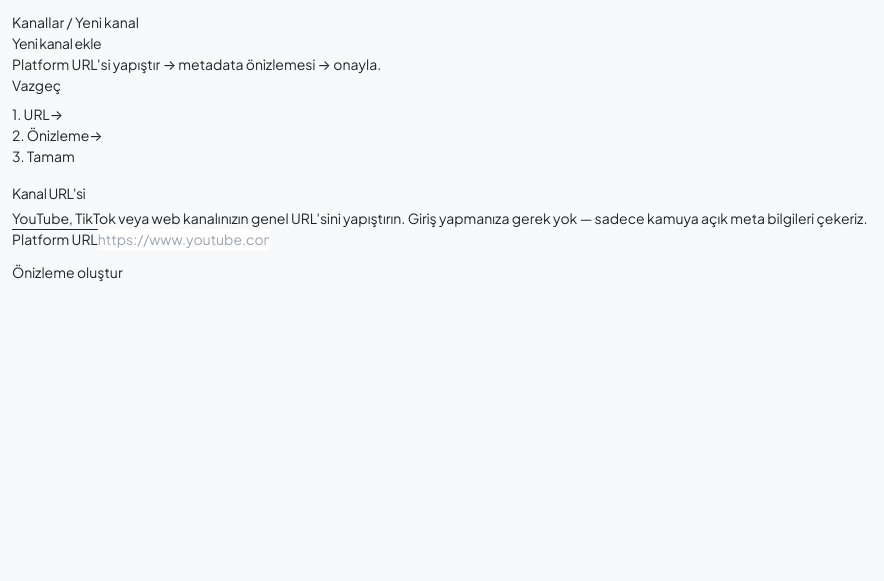
Test case: AuroraChannelOnboardingPage › submits URL and advances to ConfirmStep with metadata pre-filled
The image size is (884, 581).
Expected: the element with test id "aurora-channel-onboarding" is shown, [12,13,867,283]
In the field with test id "onb-url-input": (183, 240) [98,229,269,250], type "  https://www.youtube.com/@example  "
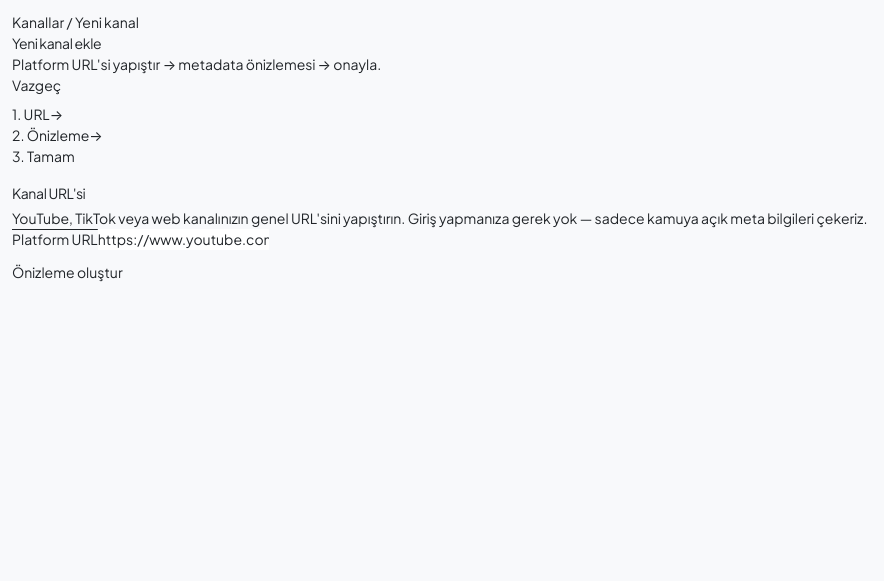
Click the button with test id "onb-url-submit": click(67, 272) [12,262,123,283]
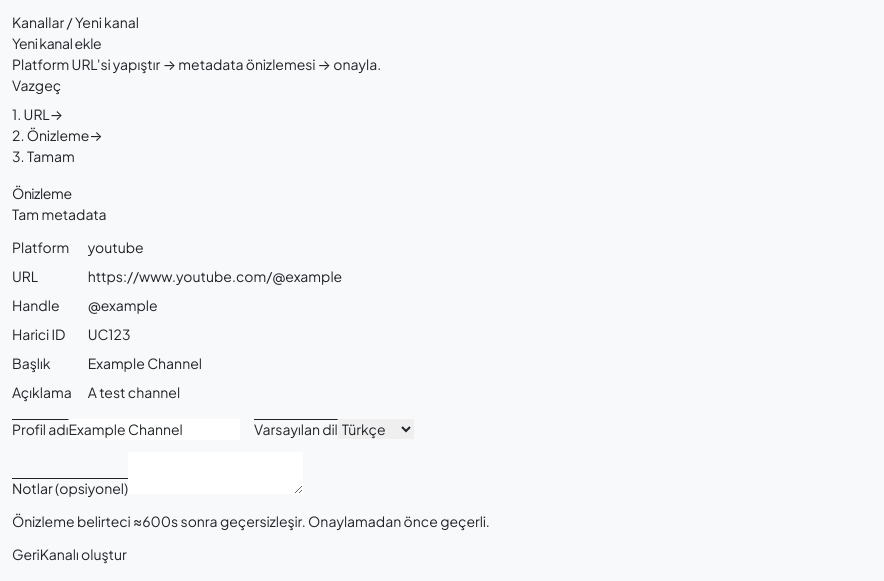
Result: the field with test id "onb-profile-name" holds "Example Channel" at [68,419,240,440]
